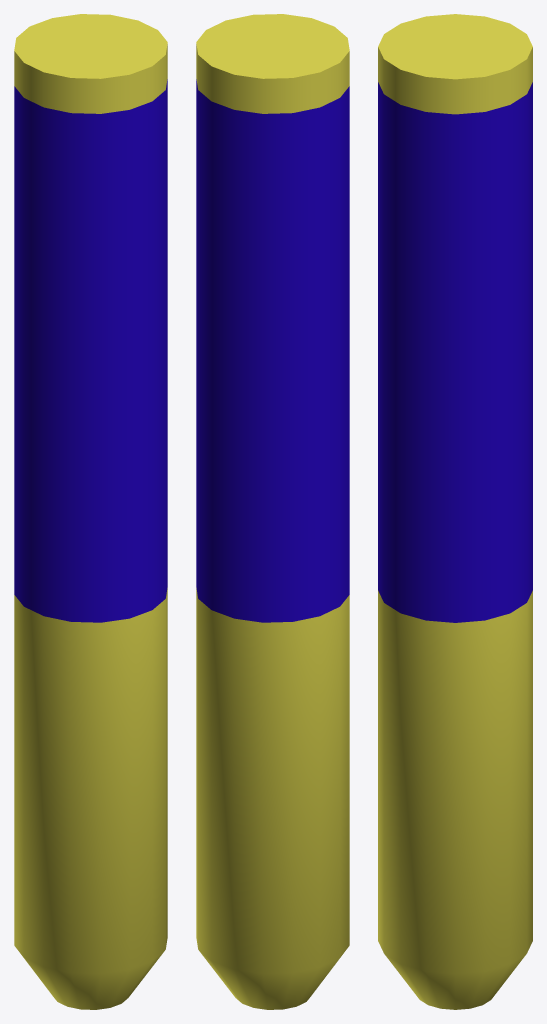
File: marker3.gltf
The picture shows the model from 3 angles, left to right: view 1: azimuth 30°, elevation 25°; view 2: azimuth 150°, elevation 25°; view 3: azimuth 270°, elevation 25°; orthographic projection.
Visible parts, largest first — view 1: Cylinder001; view 2: Cylinder001; view 3: Cylinder001.
Part boxes in pixels (left/top/right/bottom): Cylinder001: left=14, top=14, right=167, bottom=1009; Cylinder001: left=196, top=14, right=349, bottom=1009; Cylinder001: left=378, top=14, right=532, bottom=1009.
Bounding box in the file's own units: 0.08 × 0.54 × 0.08.
